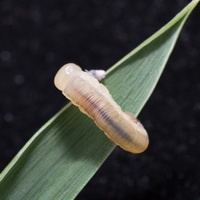insect: (54, 63, 148, 152)
